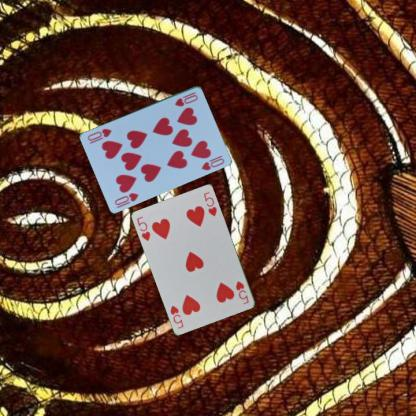10h: (172, 89, 200, 107), (112, 190, 140, 206)
5h: (135, 214, 152, 243), (234, 278, 250, 306)
